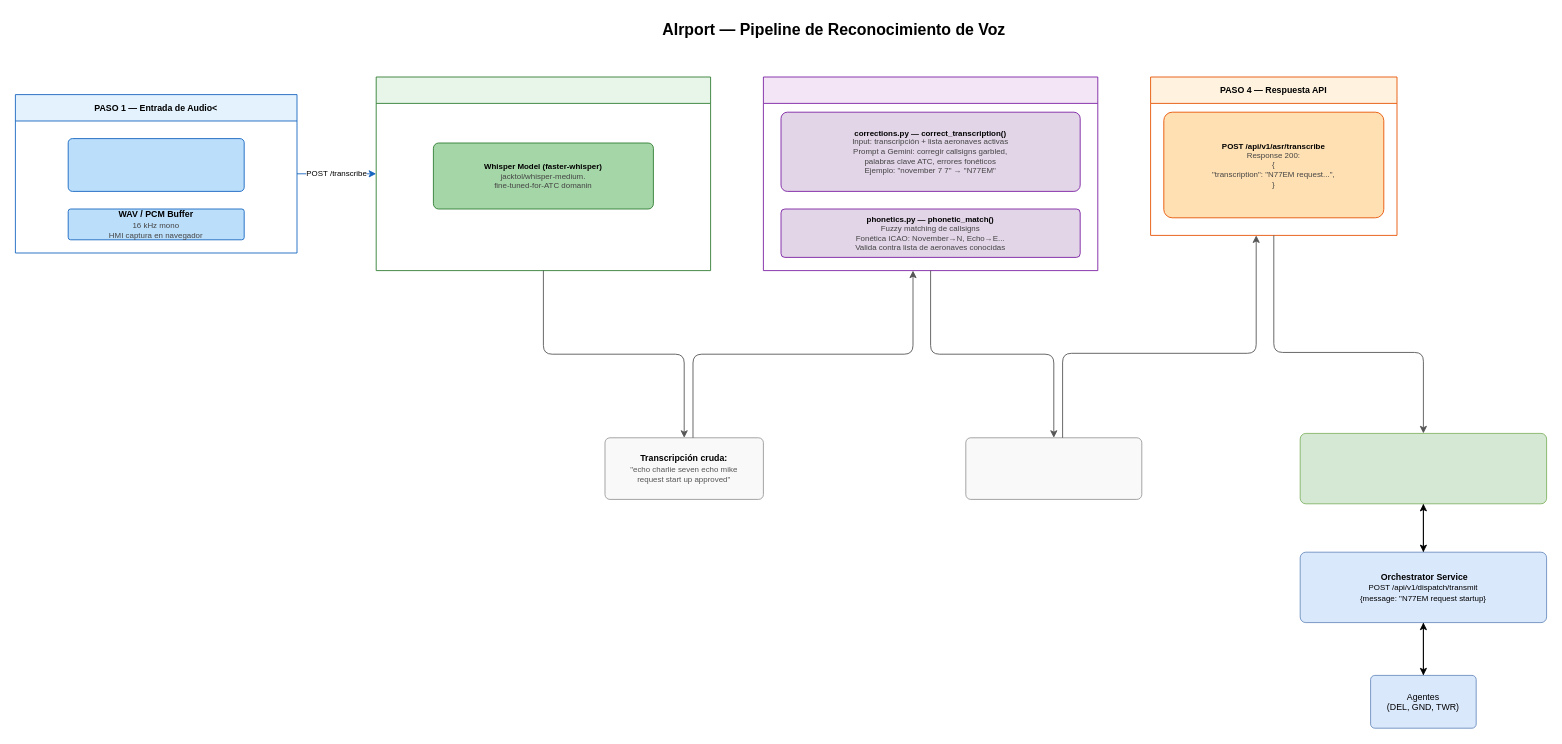
Image size: 1562x744. Some labels were removed from this diagram. Here are the shapes that lost their labels. From the top down, the box of each, then its label:
(67, 138, 244, 191): Micrófono del Controlador PTT (Push to Talk) Captura audio raw
(375, 76, 711, 271): PASO 2 — Transcripción Whisper
(763, 76, 1098, 271): PASO 3 — Corrección LLM (Gemini)
(965, 437, 1142, 499): Transcripción corregida: "N77EM request startup approved"
(1299, 433, 1547, 504): CHAT HMI Muestra las transcripciones tanto de controlador como de piloto
